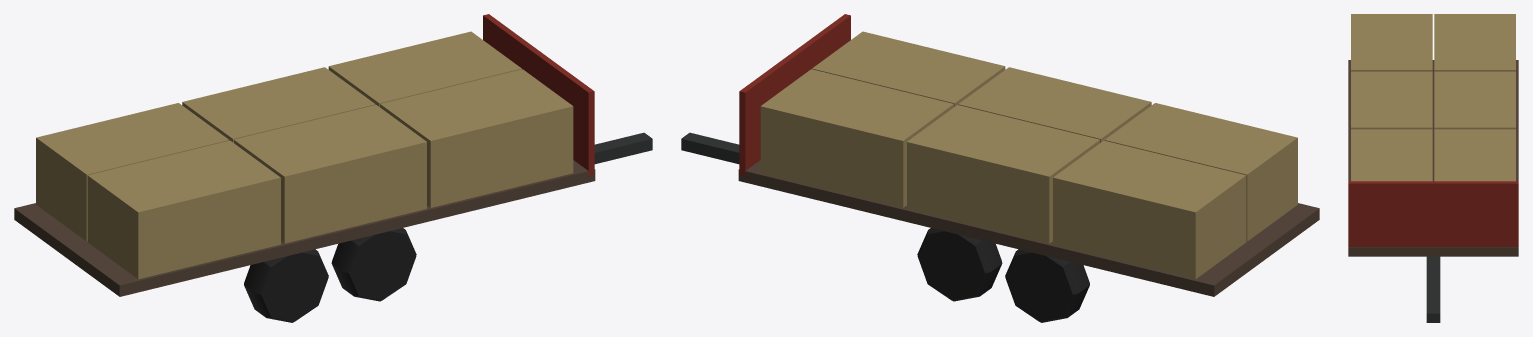
File: SM_Prop_farm_trailer_1_LOD1.glb
3 renders of one model, left to right at view 1: azimuth 30°, elevation 25°; view 2: azimuth 150°, elevation 25°; view 3: azimuth 270°, elevation 25°, orthographic. The views are drawn at different scales.
Parts seen in each view (by area): view 1: SM_Prop_farm_trailer_1_LOD1; view 2: SM_Prop_farm_trailer_1_LOD1; view 3: SM_Prop_farm_trailer_1_LOD1.
Boxes of the visible parts, x1,y1,x2,y2 form: SM_Prop_farm_trailer_1_LOD1: (14,14,652,322); SM_Prop_farm_trailer_1_LOD1: (681,14,1319,322); SM_Prop_farm_trailer_1_LOD1: (1348,14,1518,322).
Size of the model in its own units: 7.95 by 2.15 by 2.5.
